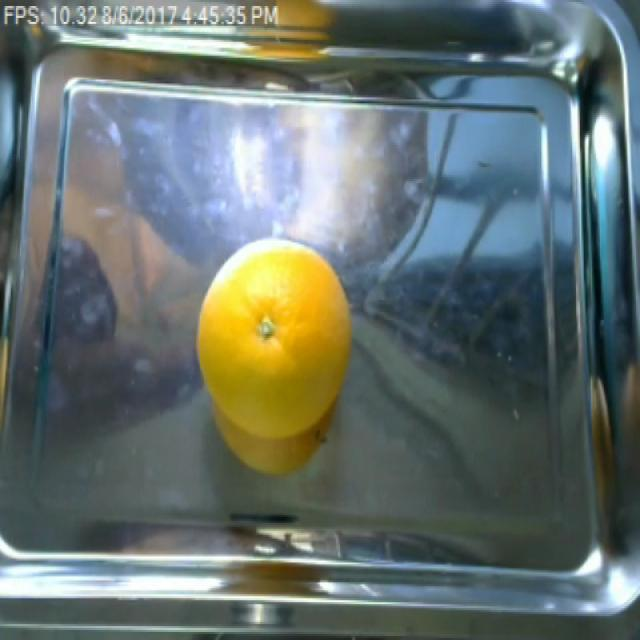Fruit: (188, 241, 361, 479), (257, 0, 344, 34)
